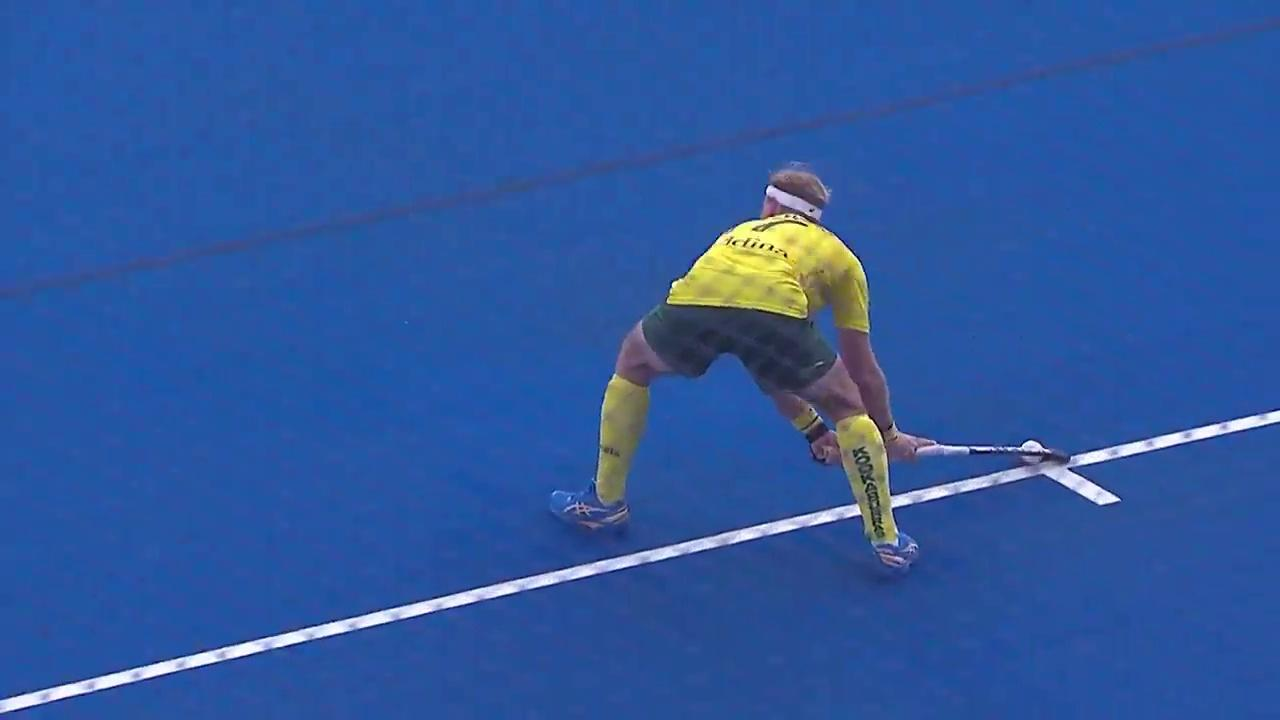ball: (994, 428, 1049, 476)
